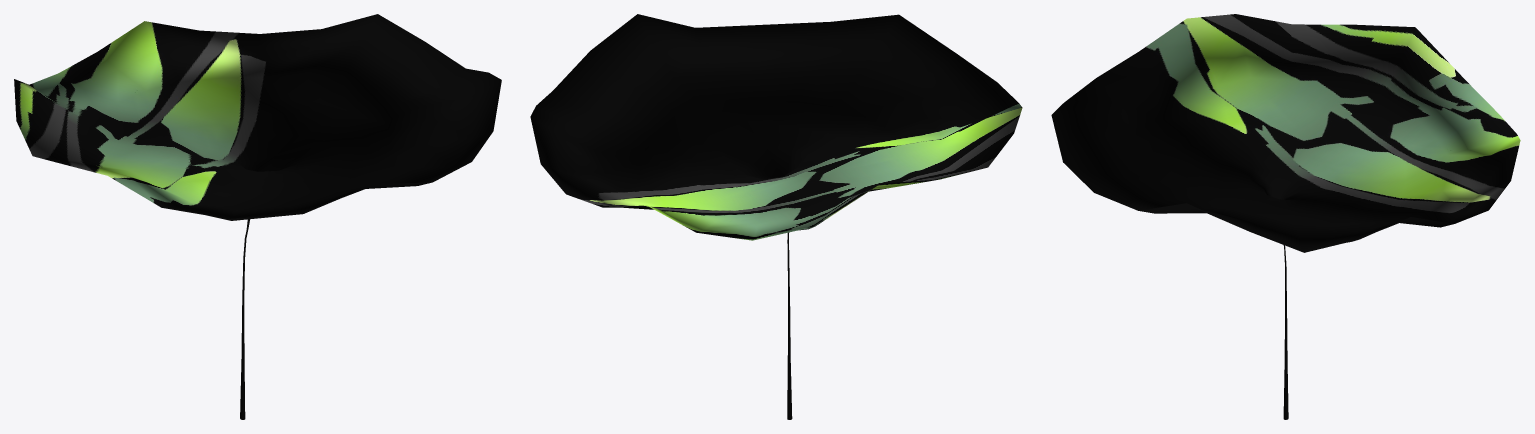
Rendered from Big_Leave_New.fbx.
3 renders of one model, left to right at view 1: azimuth 30°, elevation 25°; view 2: azimuth 150°, elevation 25°; view 3: azimuth 270°, elevation 25°, orthographic. The views are drawn at different scales.
Visible parts, largest first — view 1: Big_Leave_New; view 2: Big_Leave_New; view 3: Big_Leave_New.
Boxes of the visible parts, <box> form: Big_Leave_New: <box>14,14,501,419</box>; Big_Leave_New: <box>530,14,1022,419</box>; Big_Leave_New: <box>1051,14,1520,419</box>.
Bounding box in the file's own units: 953 × 684 × 919.
